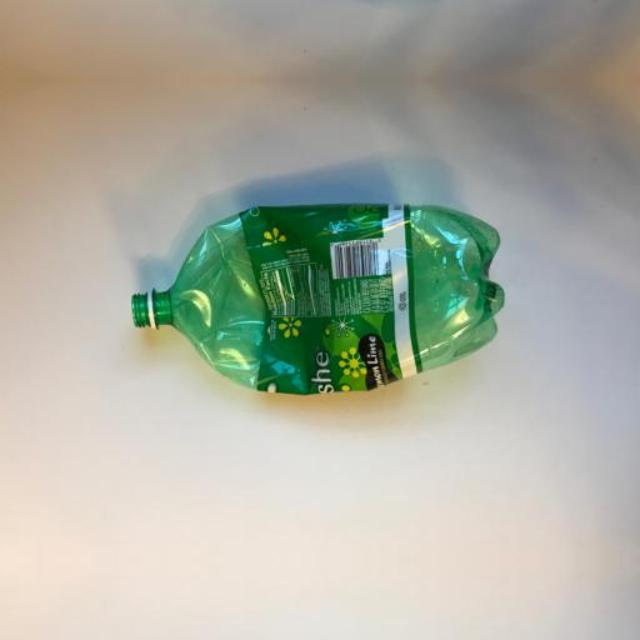Plastic: (92, 192, 530, 414)
